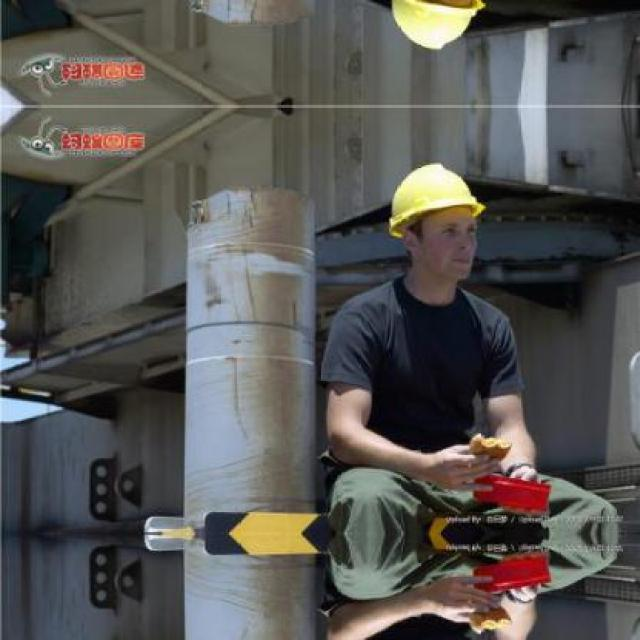helmet: (379, 152, 495, 297), (378, 0, 496, 62)
